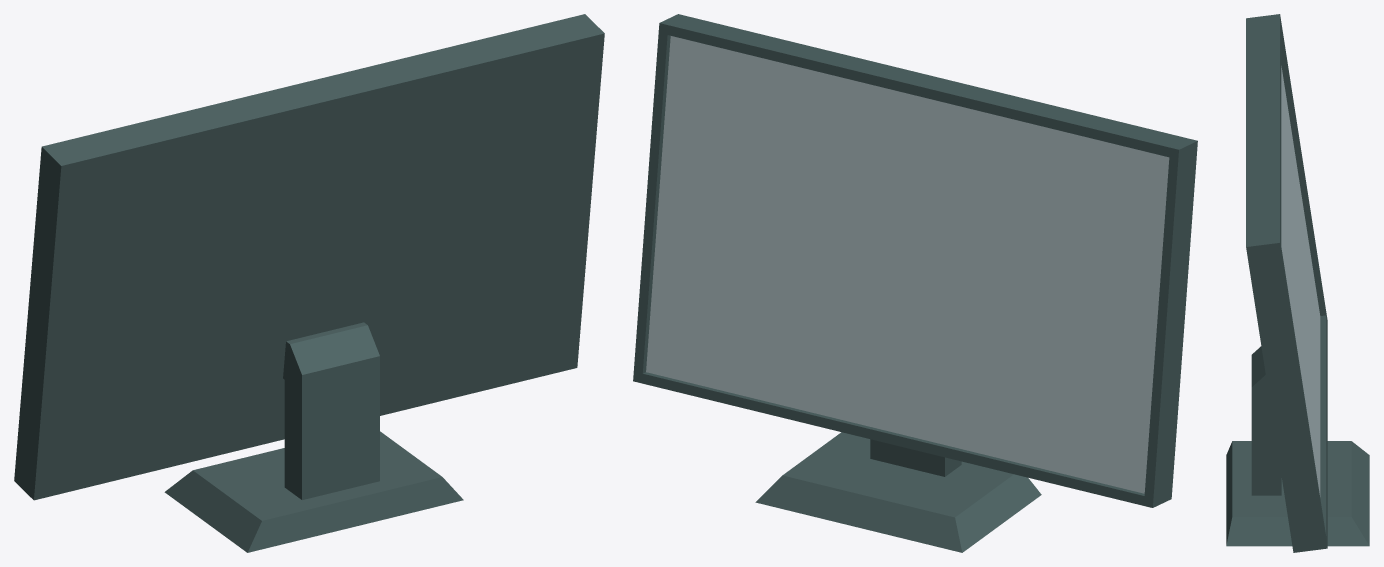
Rendered from monitor.glb.
3 views of the same model, side by side, from view 1: azimuth 30°, elevation 25°; view 2: azimuth 150°, elevation 25°; view 3: azimuth 270°, elevation 25° (orthographic). The views are drawn at different scales.
Parts seen in each view (by area): view 1: computerScreen; view 2: computerScreen; view 3: computerScreen.
Part boxes in pixels (x1,y1,x2,y2): computerScreen: (14, 14, 604, 552); computerScreen: (633, 14, 1197, 552); computerScreen: (1226, 14, 1369, 552).
Bounding box in the file's own units: 0.3927 × 0.2943 × 0.104.
